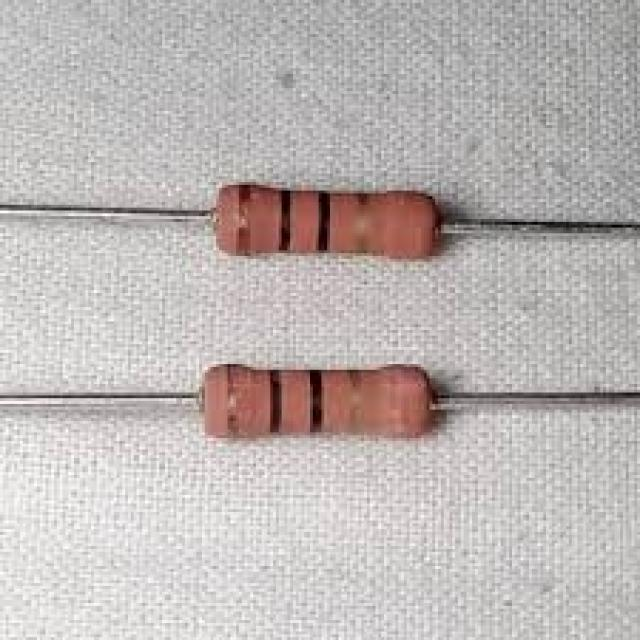Resistor: (193, 361, 444, 441), (208, 180, 453, 260)
